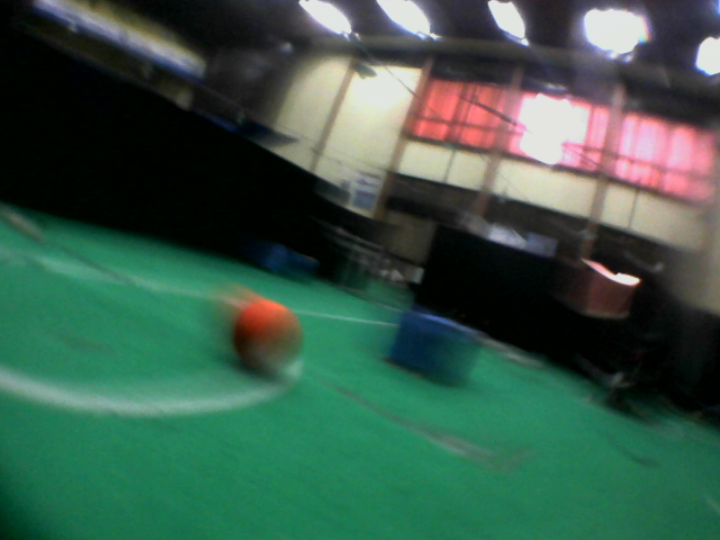bola: (227, 292, 309, 380)
